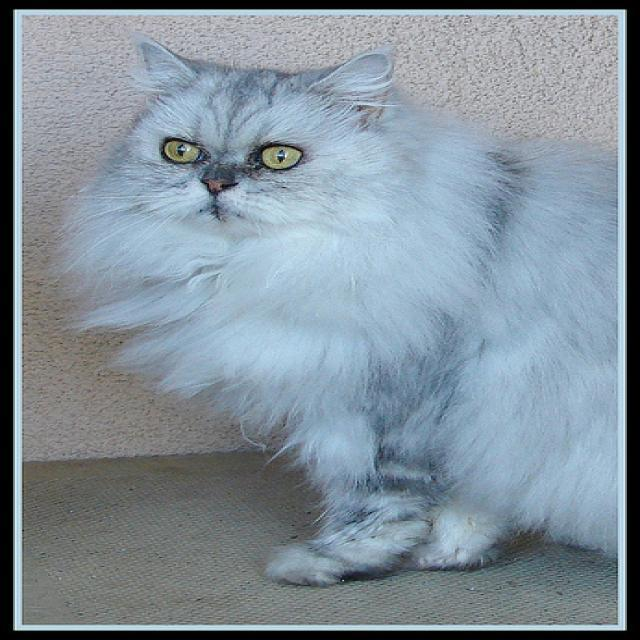Persian: (108, 37, 420, 252)
